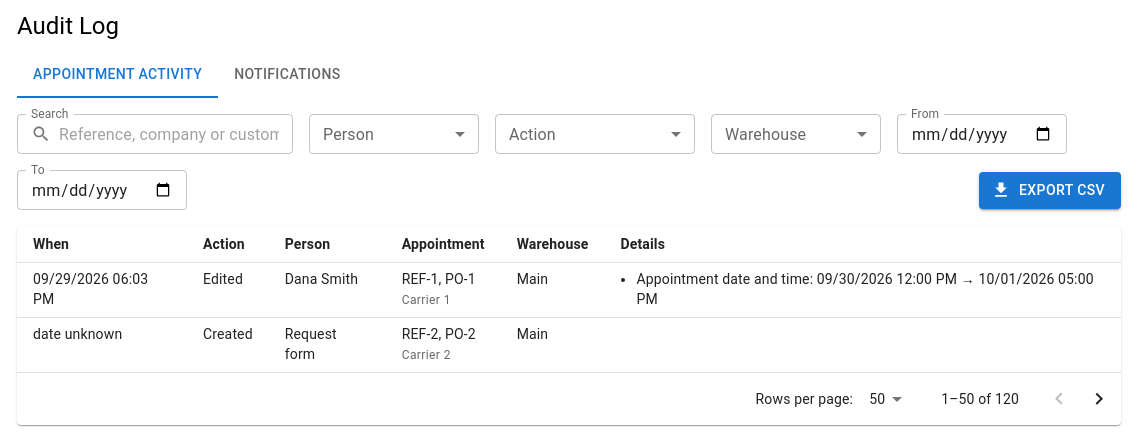
Scenario: Notifications tab › renders notifications with channel, type, status, recipient, subject and error
The width and height of the screenshot is (1139, 444).
Step 1. Click the tab "Notifications" → click(287, 74), box [218, 50, 357, 98]
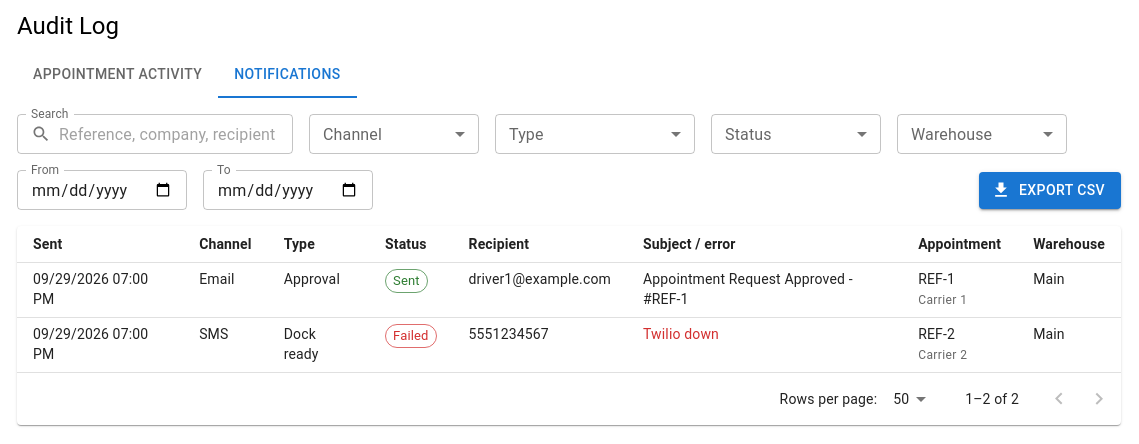
Now the row with test id "audit-row" shows "Email", box [199, 271, 235, 287]
Now the row with test id "audit-row" shows "Approval", box [284, 271, 340, 287]
Now the row with test id "audit-row" shows "Sent", box [393, 273, 420, 288]
